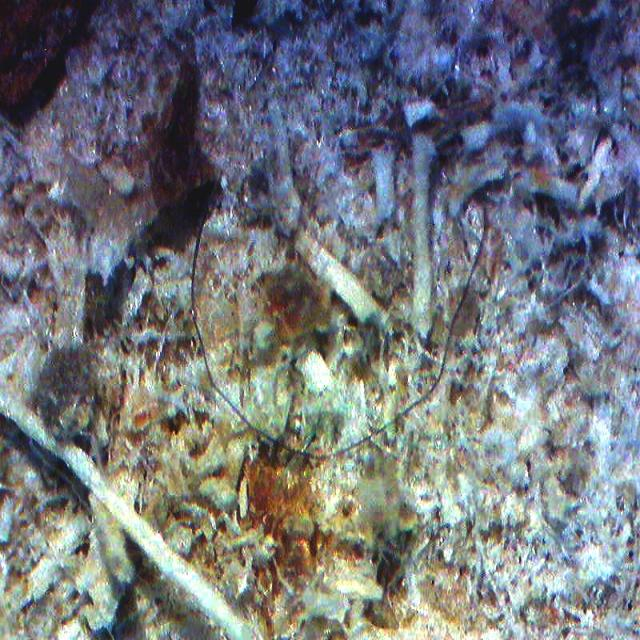microplastic: (189, 186, 490, 459)
